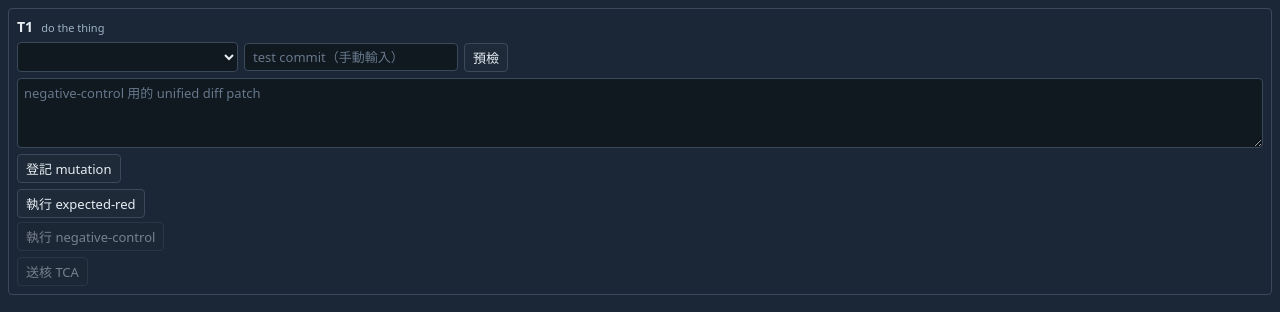
Test: TcaWorkspace › 同一 task 任一 kind 執行中時，兩顆 run 按鈕都 disabled（per-task 互斥）
Type "diff --git a/x b/x" into the text box with test id "mutation-patch-T1".
click(640, 113); type("diff --git a/x b/x")  # box [17, 78, 1263, 148]
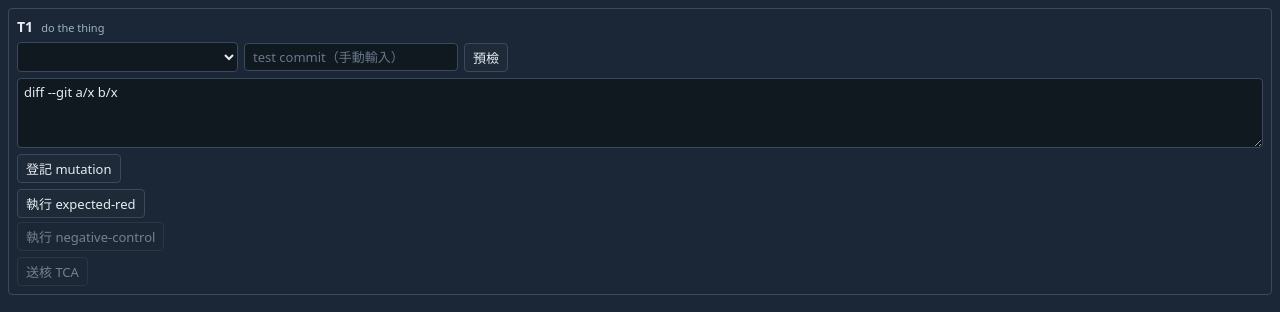
Click the button with test id "register-mutation-T1".
click(69, 168)  # box [17, 154, 120, 183]
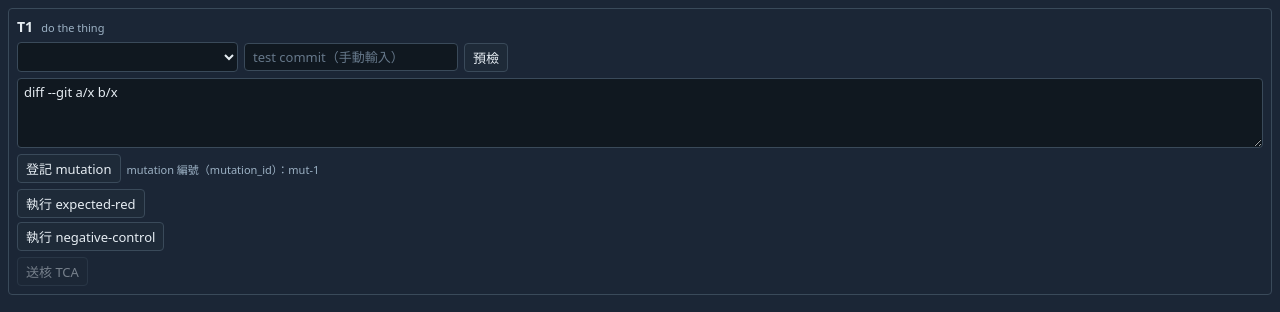
Expected: the button with test id "run-negative_control-T1" is enabled, [17, 222, 164, 251]
Click the button with test id "run-expected_red-T1".
click(81, 204)  # box [17, 189, 144, 218]
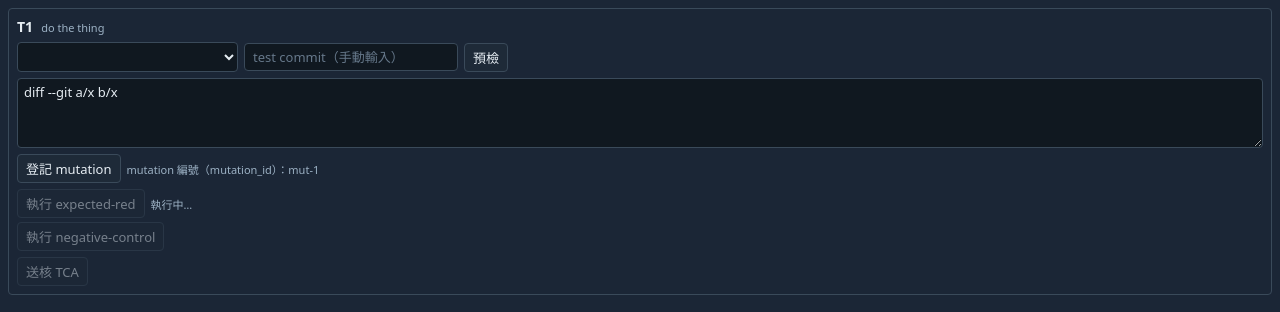
Expected: the button with test id "run-expected_red-T1" is disabled, [17, 189, 144, 218]
Expected: the button with test id "run-negative_control-T1" is disabled
Click the button with test id "run-negative_control-T1".
click(91, 236)  # box [17, 222, 164, 251]
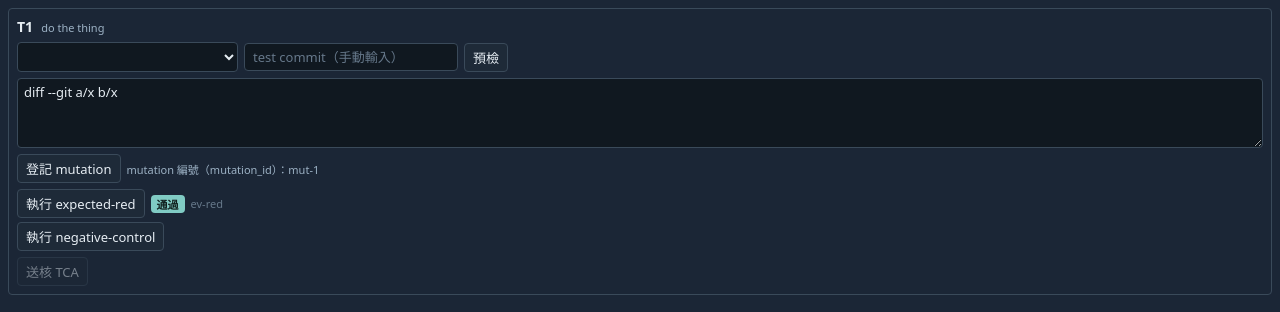
Expected: the button with test id "run-negative_control-T1" is enabled, [17, 222, 164, 251]
